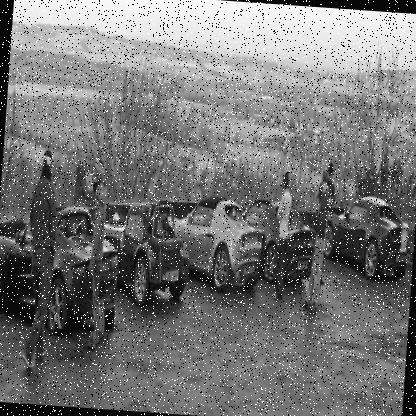Car: (0, 200, 124, 336), (162, 187, 268, 288), (98, 197, 192, 308), (316, 193, 411, 280), (238, 194, 320, 282)
